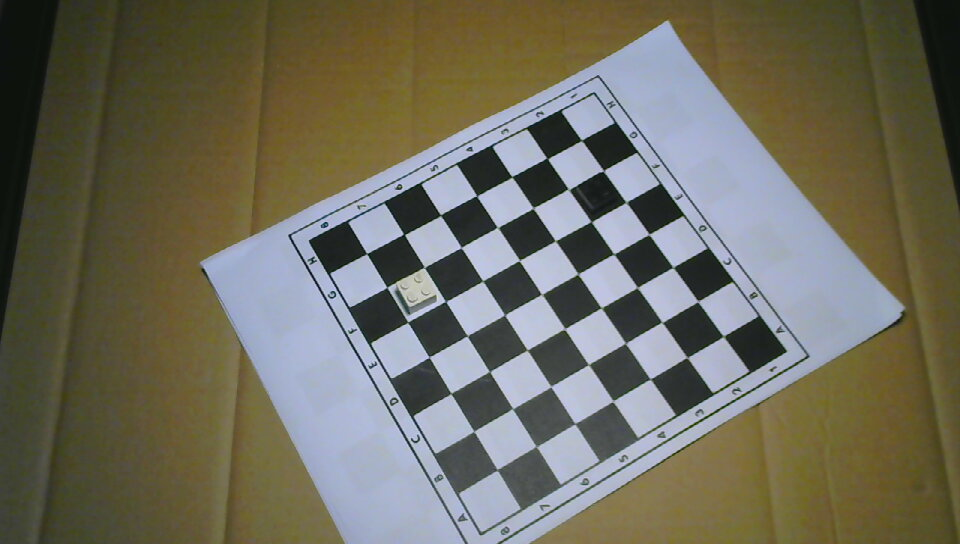bp: (578, 176, 617, 215)
wp: (396, 271, 437, 314)
